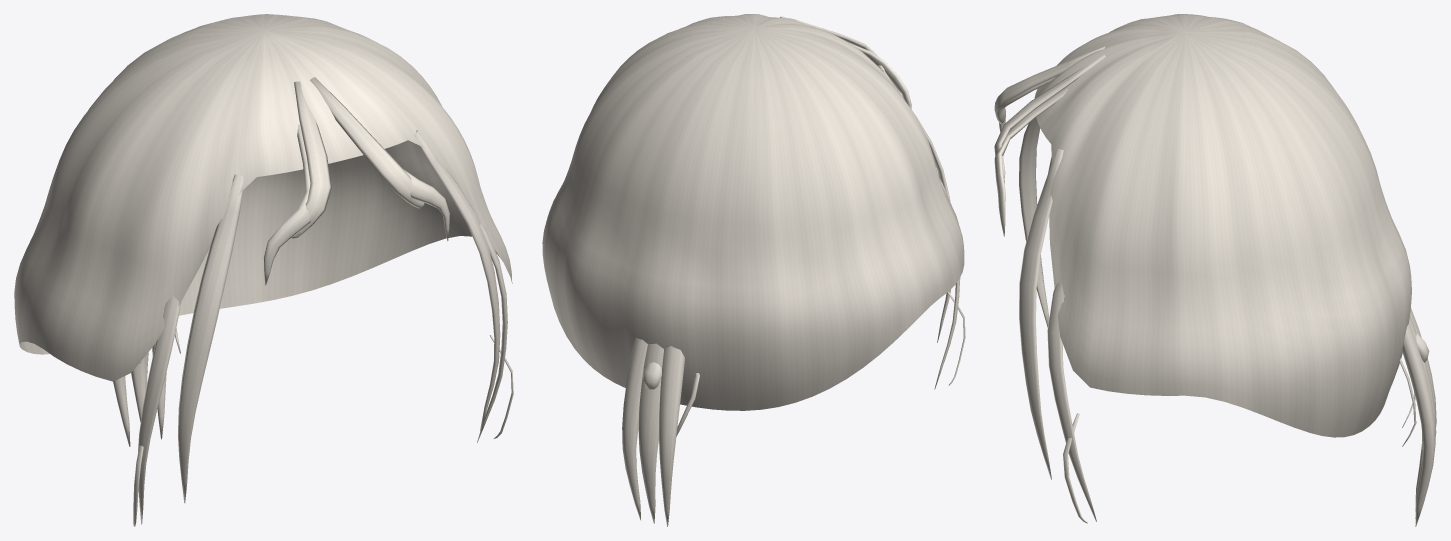
3 renders of one model, left to right at view 1: azimuth 30°, elevation 25°; view 2: azimuth 150°, elevation 25°; view 3: azimuth 270°, elevation 25°, orthographic. The views are drawn at different scales.
Parts seen in each view (by area): view 1: Portrait hair a; view 2: Portrait hair a; view 3: Portrait hair a.
Part boxes in pixels (x1=…): Portrait hair a: x1=14, y1=14, x2=513, y2=526; Portrait hair a: x1=542, y1=14, x2=965, y2=526; Portrait hair a: x1=994, y1=14, x2=1436, y2=526.
Bounding box in the file's own units: 1.1 × 1.2 × 0.9835.
Materials: 1 (1 with a texture image).
